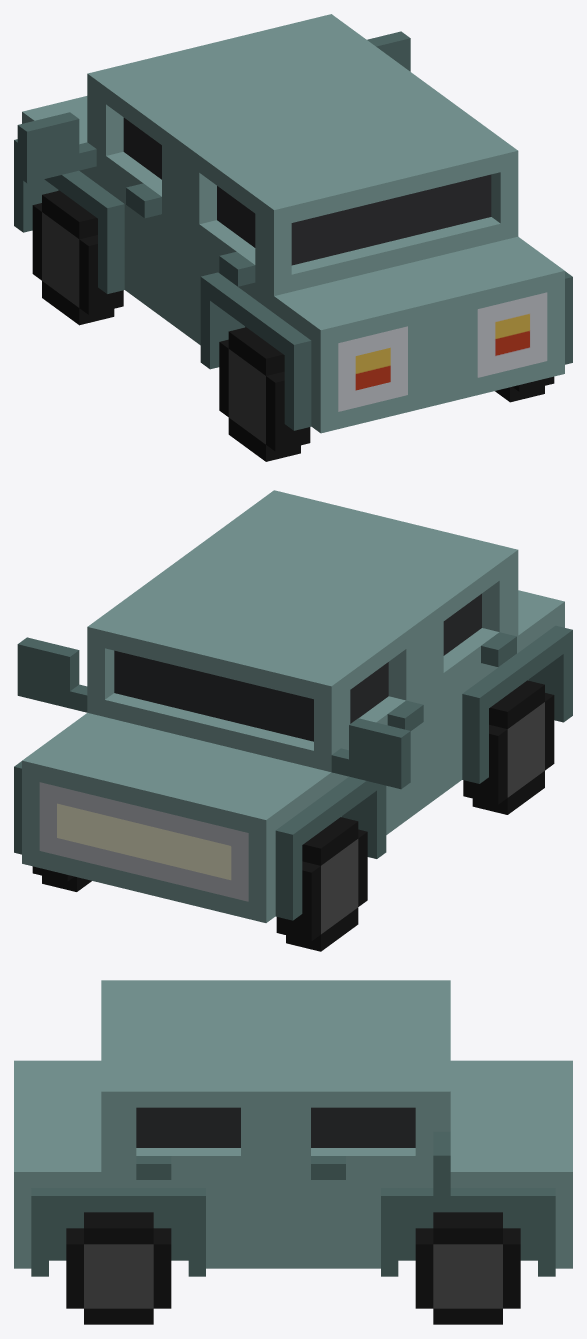
Rendered from Sedan 1.fbx.
3 views of the same model, one above another, from view 1: azimuth 30°, elevation 25°; view 2: azimuth 150°, elevation 25°; view 3: azimuth 270°, elevation 25° (orthographic). The views are drawn at different scales.
Visible parts, largest first — view 1: CarThree.001; view 2: CarThree.001; view 3: CarThree.001.
Part boxes in pixels (left/top/right/bottom): CarThree.001: left=14, top=14, right=572, bottom=461; CarThree.001: left=14, top=490, right=572, bottom=951; CarThree.001: left=14, top=980, right=572, bottom=1324.
Bounding box in the file's own units: 305 × 183 × 411.
